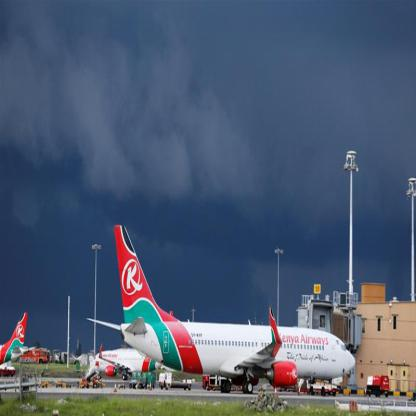CIV_Plane: (85, 224, 357, 404), (0, 310, 28, 369)
